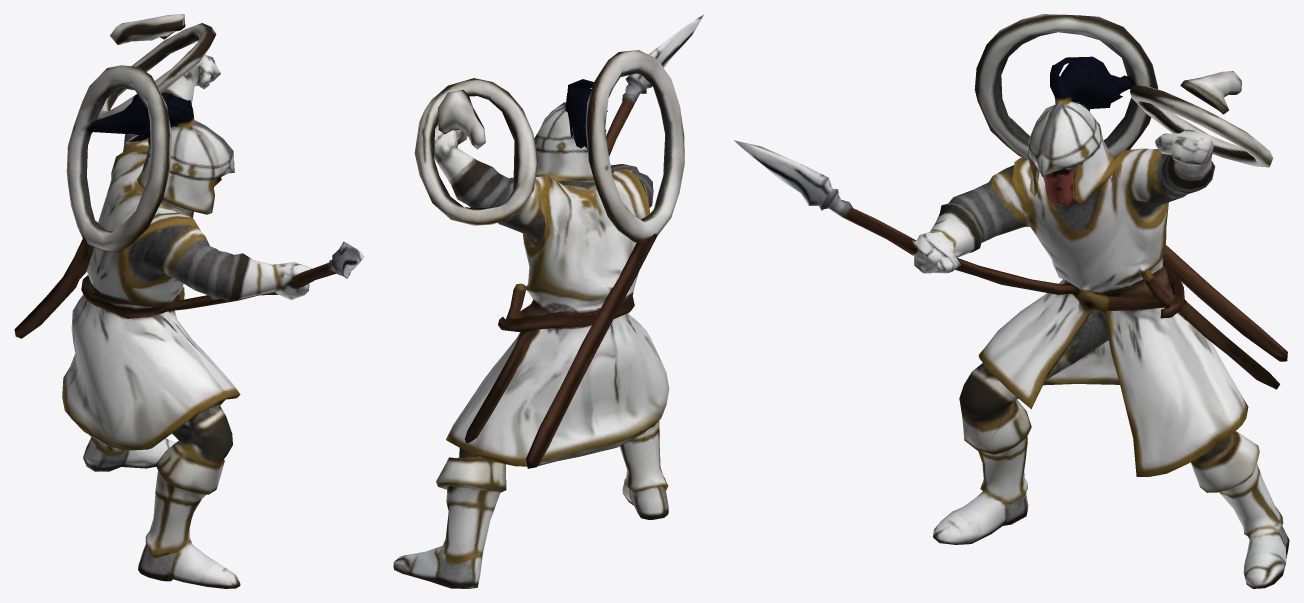
File: spearmen__crown_celestial_host_strike.glb
The picture shows the model from 3 angles, left to right: view 1: azimuth 30°, elevation 25°; view 2: azimuth 150°, elevation 25°; view 3: azimuth 270°, elevation 25°; orthographic projection. The views are drawn at different scales.
Visible parts, largest first — view 1: world; view 2: world; view 3: world.
Part boxes in pixels (<box>): world: <box>14,14,364,588</box>; world: <box>393,14,703,588</box>; world: <box>734,14,1289,588</box>.
Size of the model in its own units: 0.3867 by 0.9953 by 0.9799.
Materials: 1 (1 with a texture image).
